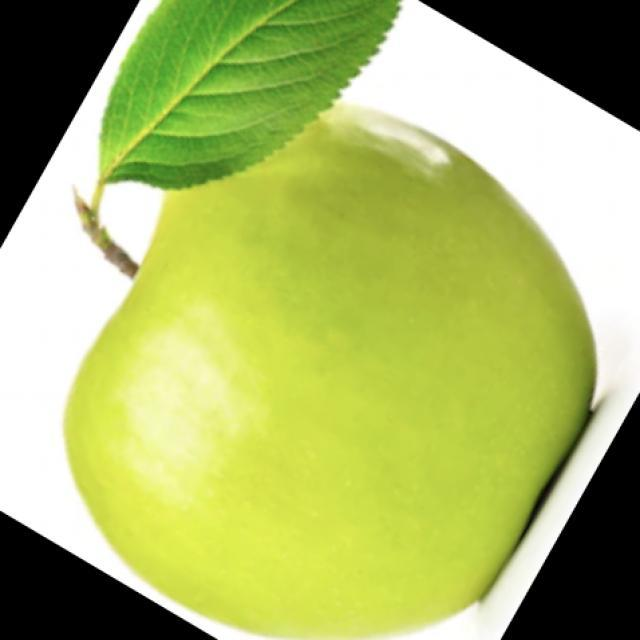Fresh Apple: (77, 99, 588, 638)
